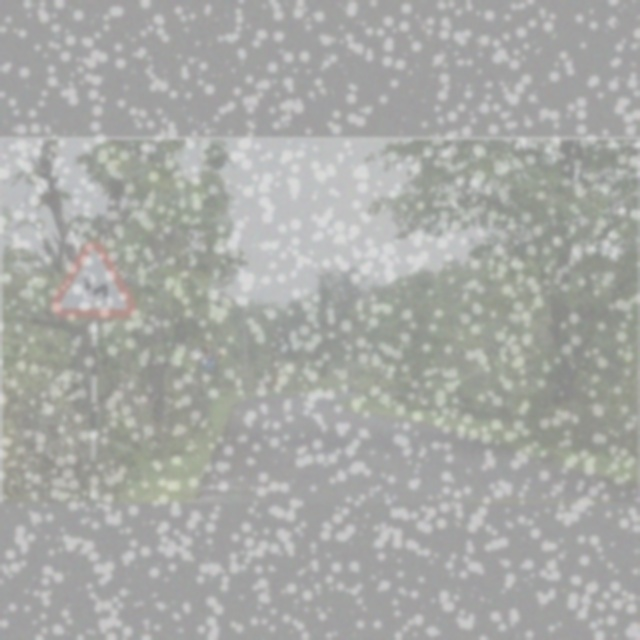Left_Reverse_Bend: (53, 239, 131, 318)
